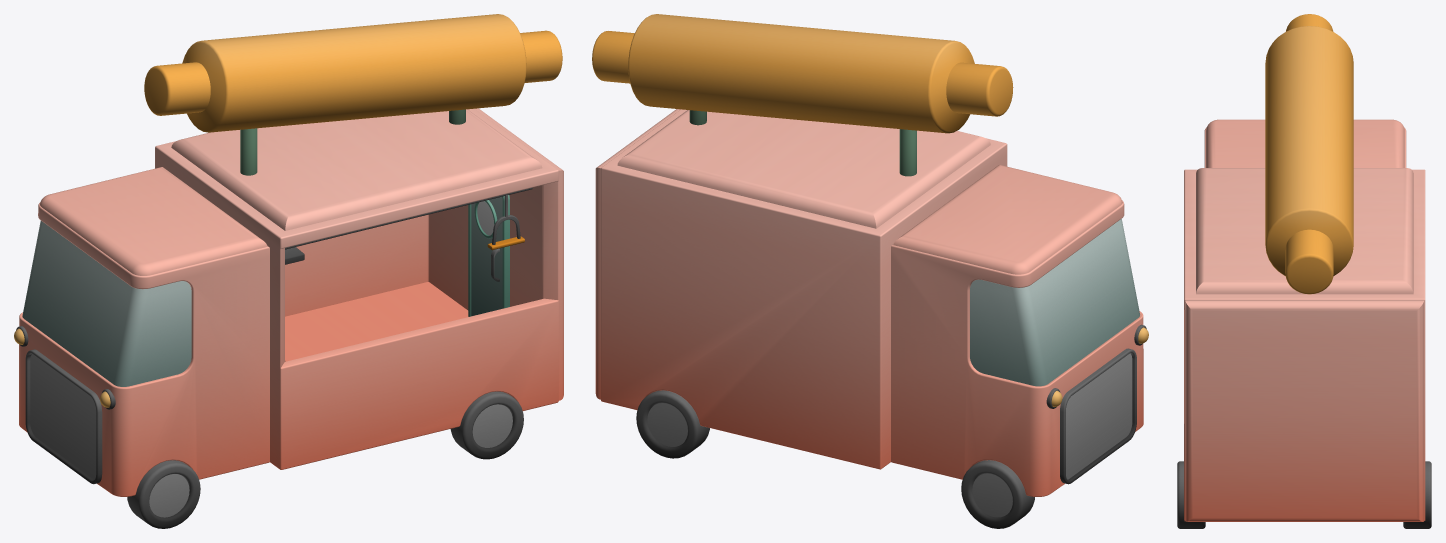
Rendered from foodtruck.fbx.
3 views of the same model, side by side, from view 1: azimuth 30°, elevation 25°; view 2: azimuth 150°, elevation 25°; view 3: azimuth 270°, elevation 25° (orthographic). The views are drawn at different scales.
Visible parts, largest first — view 1: Base Food Truck, Front, Rolling Pin.001, Entrance Door, Cylinder, Cylinder.006, Bird Hang, Cylinder.004; view 2: Base Food Truck, Front, Rolling Pin.001, Cylinder.003, Cylinder.001, Cylinder.004; view 3: Base Food Truck, Rolling Pin.001, Front, Cylinder.006, Cylinder.001.
Part boxes in pixels (<box>): Base Food Truck: <box>155,108,563,469</box>; Front: <box>14,167,269,496</box>; Rolling Pin.001: <box>144,14,562,132</box>; Entrance Door: <box>468,195,509,316</box>; Cylinder: <box>127,460,200,528</box>; Cylinder.006: <box>450,391,523,459</box>; Bird Hang: <box>285,187,532,249</box>; Cylinder.004: <box>240,128,257,175</box>; Base Food Truck: <box>595,109,1007,469</box>; Front: <box>891,165,1148,496</box>; Rolling Pin.001: <box>592,14,1013,133</box>; Cylinder.003: <box>961,460,1034,528</box>; Cylinder.001: <box>636,390,709,458</box>; Cylinder.004: <box>899,129,916,176</box>; Base Food Truck: <box>1184,168,1425,521</box>; Rolling Pin.001: <box>1265,14,1353,294</box>; Front: <box>1204,119,1406,167</box>; Cylinder.006: <box>1177,461,1205,528</box>; Cylinder.001: <box>1403,461,1431,528</box>.
Bounding box in the file's own units: 743 × 596 × 344.
